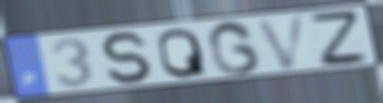3: (48, 35, 97, 91)
G: (205, 19, 264, 77)
Q: (156, 26, 210, 80)
S: (98, 30, 158, 86)
V: (253, 13, 309, 72)
Z: (306, 10, 373, 69)
